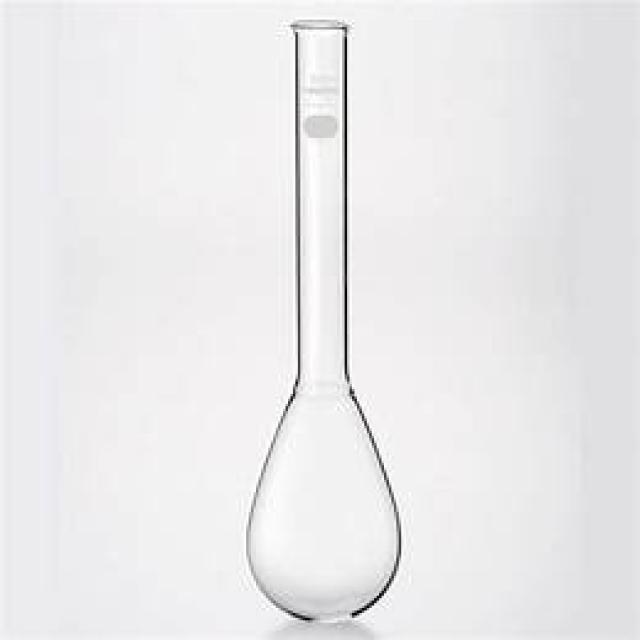Volumetric flask: (227, 9, 403, 624)
